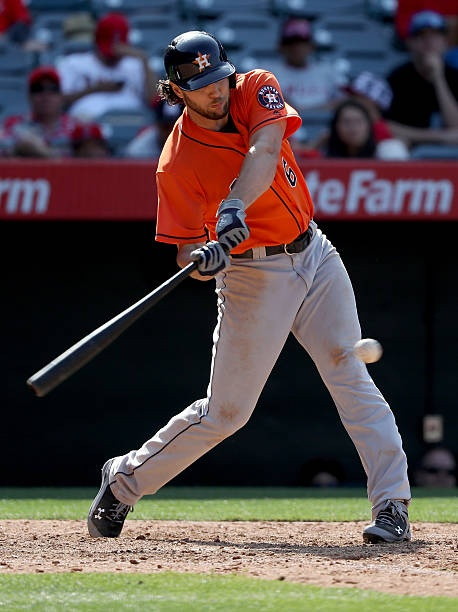bita: (27, 233, 241, 395)
